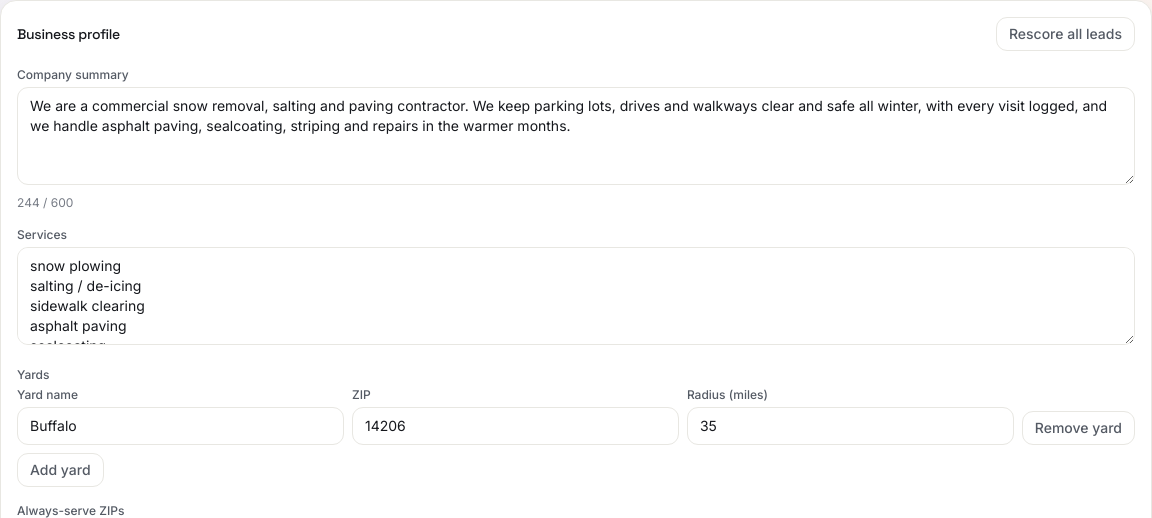
Test: BusinessProfileSection › stops the rescore loop and shows an alert when progress stalls
Step 1. Click the button "Rescore all leads" → (1065, 34), box [996, 17, 1135, 51]
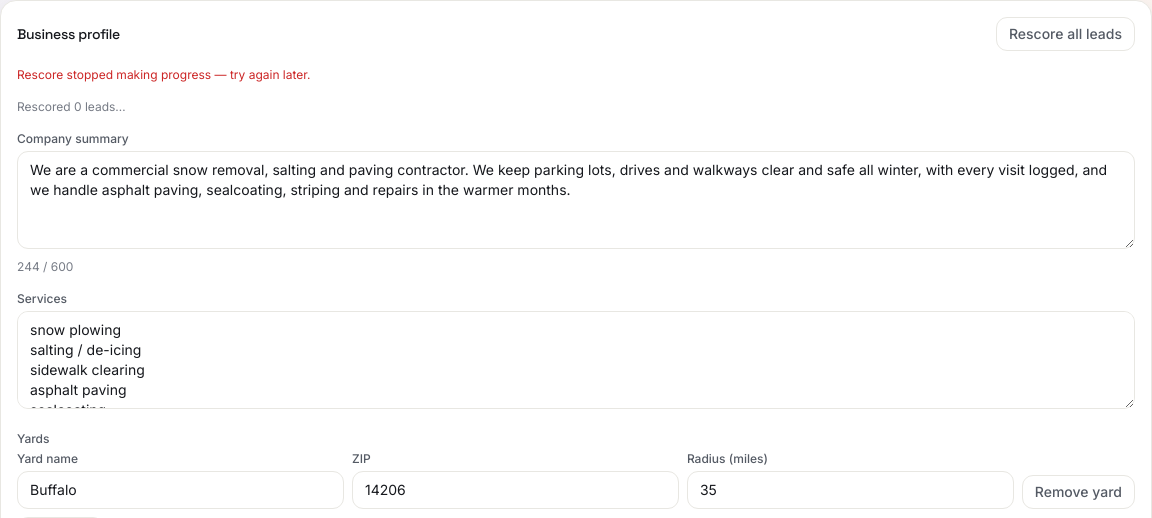
Result: the message shows "Rescore stopped making progress" at [17, 67, 310, 82]
